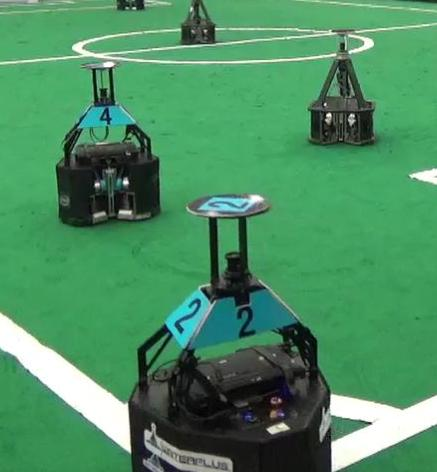robot: (114, 192, 334, 472), (47, 57, 166, 225), (306, 24, 379, 151)
